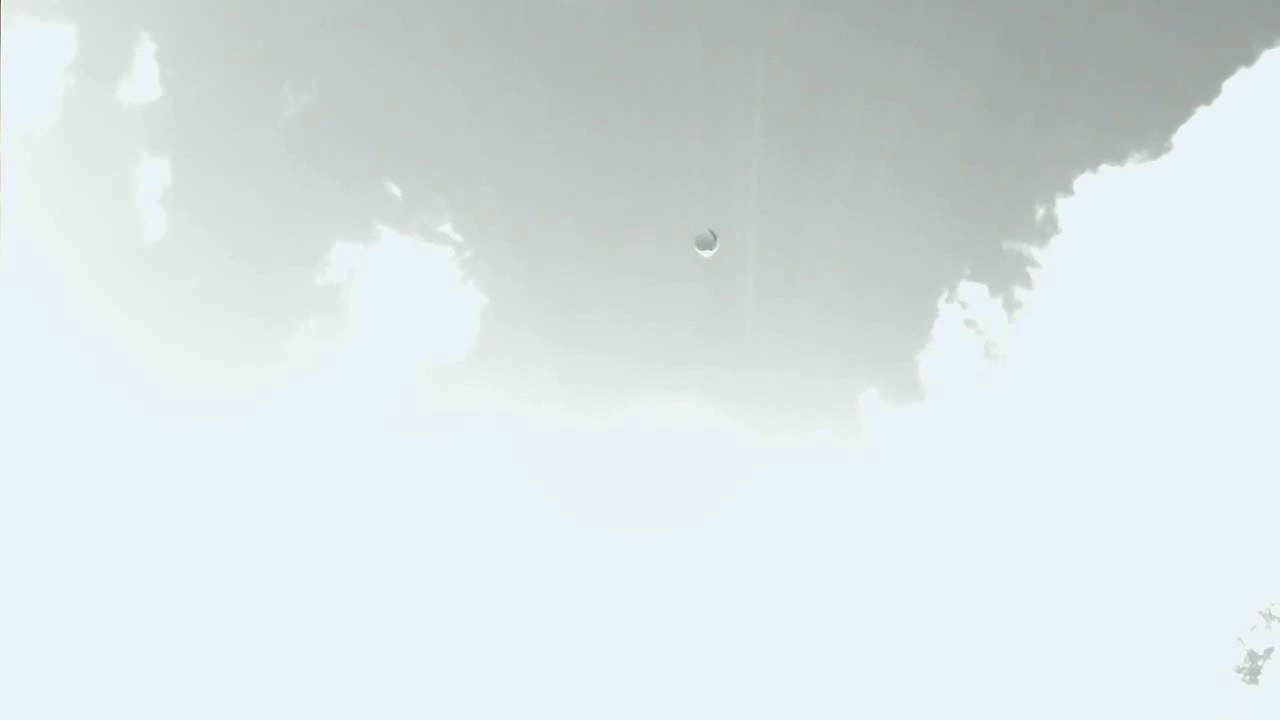Football-Spotter: (695, 229, 718, 256)
